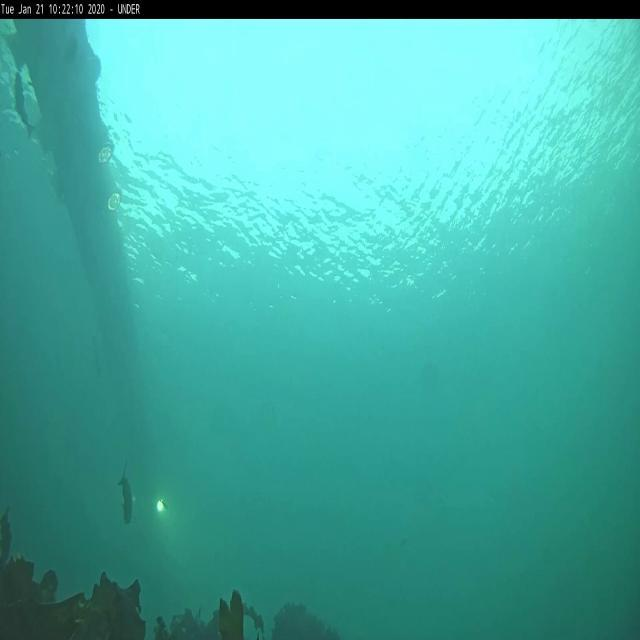fish: (13, 70, 33, 134), (118, 463, 136, 527), (90, 338, 101, 380), (402, 533, 408, 550)
